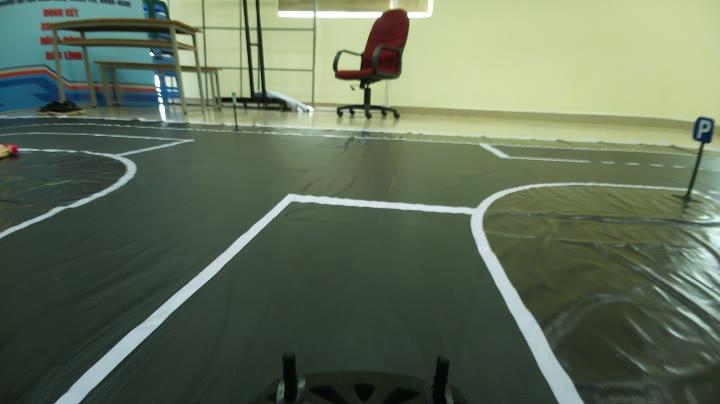parking: (692, 106, 715, 151)
